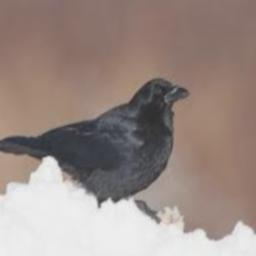Crow: (0, 78, 191, 227)
